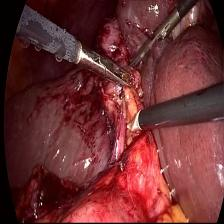Grasper: (128, 6, 181, 69), (82, 45, 138, 96)
Hook: (117, 109, 141, 141)
